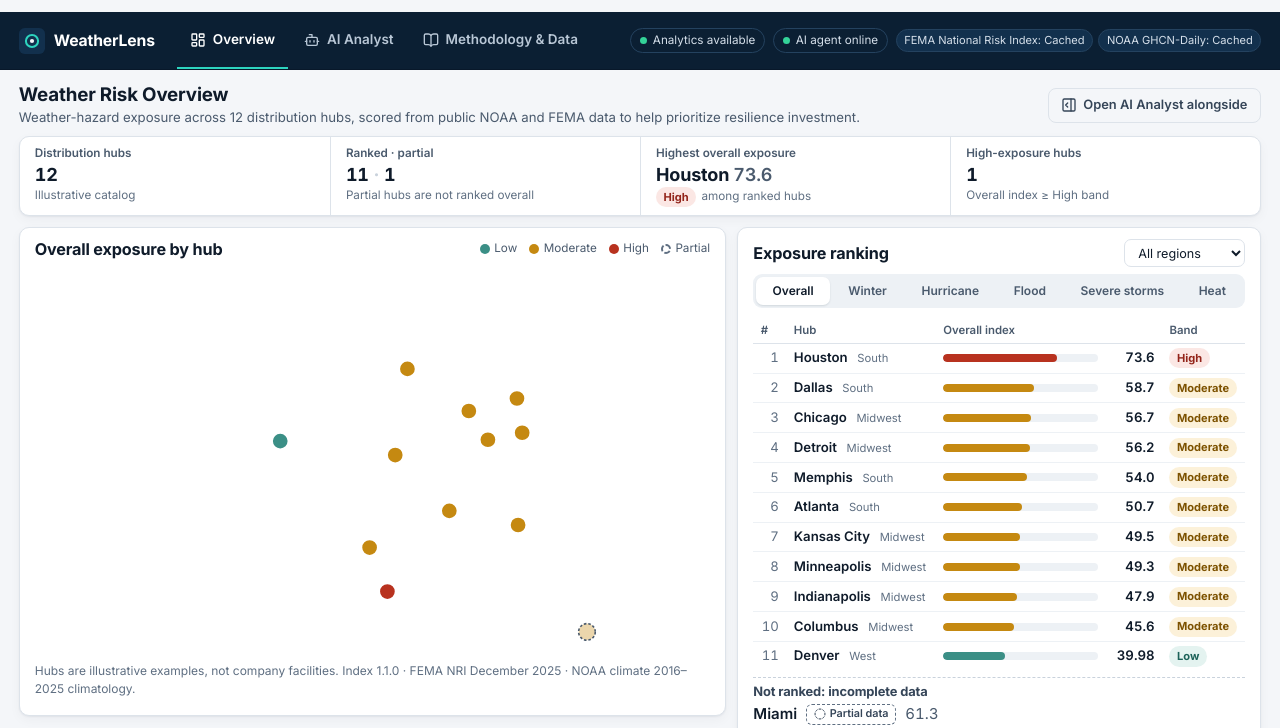
Test: AI Analyst › shows a friendly 429 error and retries without duplicating the turn
The image size is (1280, 728).
Click the button "AI Analyst". click: click(349, 40)
box: top-left (292, 12), bottom-right (406, 69)
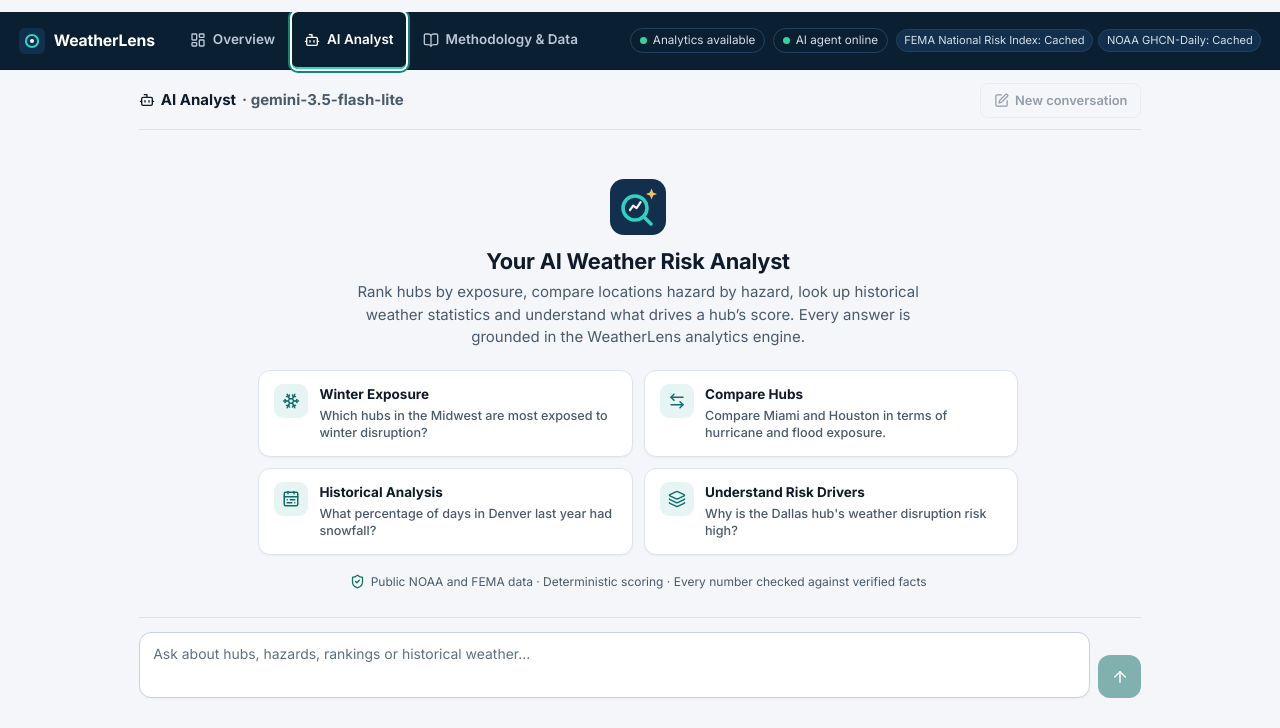
Click the button that starts with "Historical Analysis". click: click(445, 511)
box: top-left (258, 468), bottom-right (632, 555)
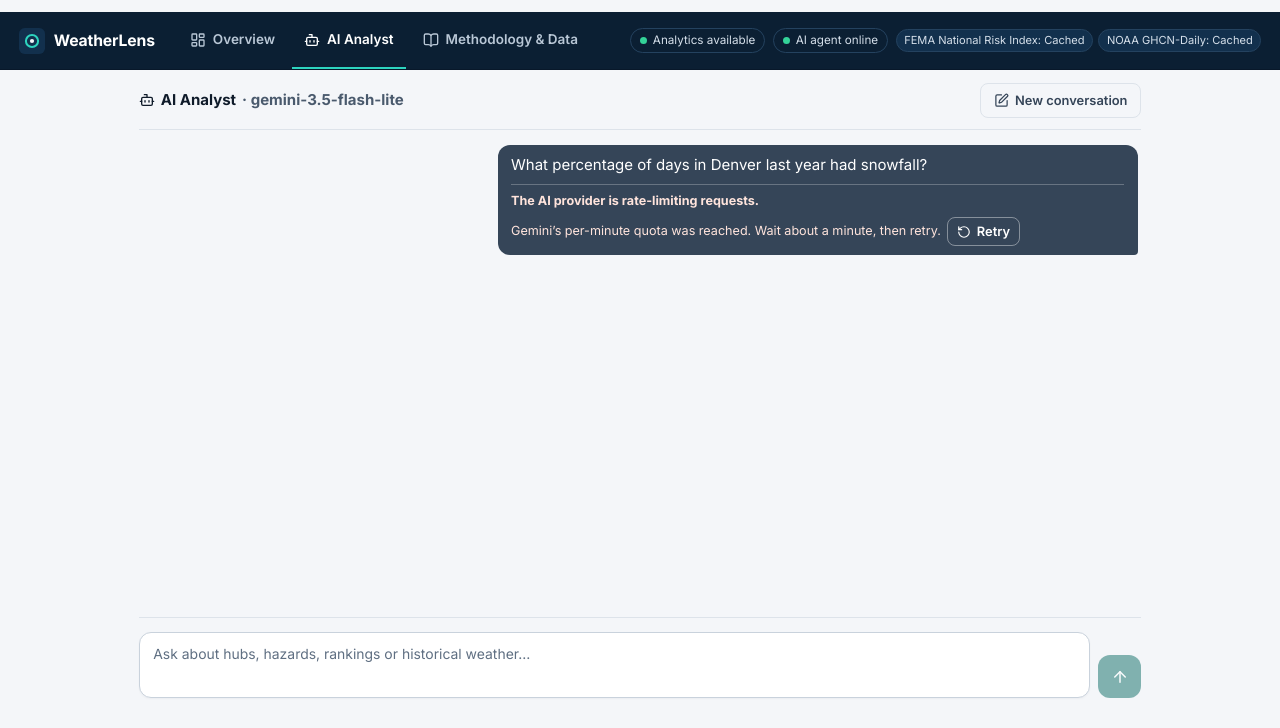
Result: the message shows "The AI provider is rate-limiting requests" at top-left (511, 193), bottom-right (755, 208)
Click the button "Retry". click: click(983, 232)
box: top-left (947, 217), bottom-right (1020, 246)
(page scrolled)
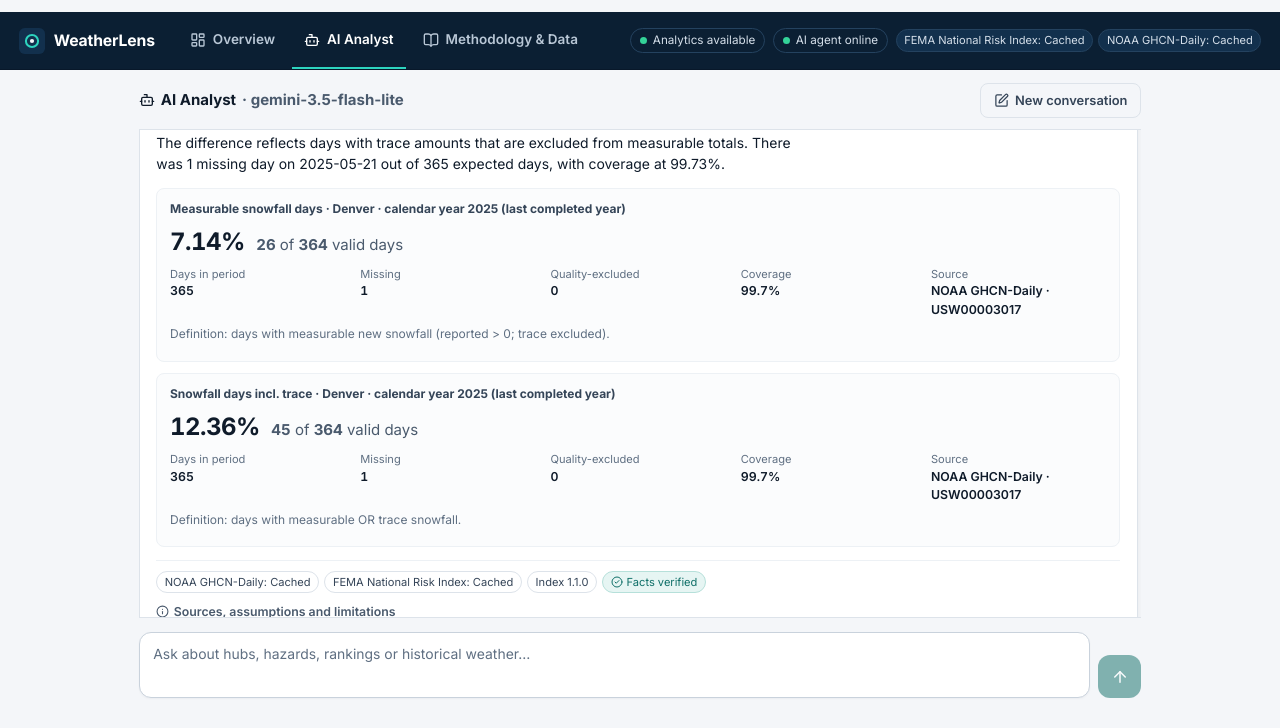
Result: the element named "AI Analyst answer" is shown at top-left (139, 130), bottom-right (1138, 618)
